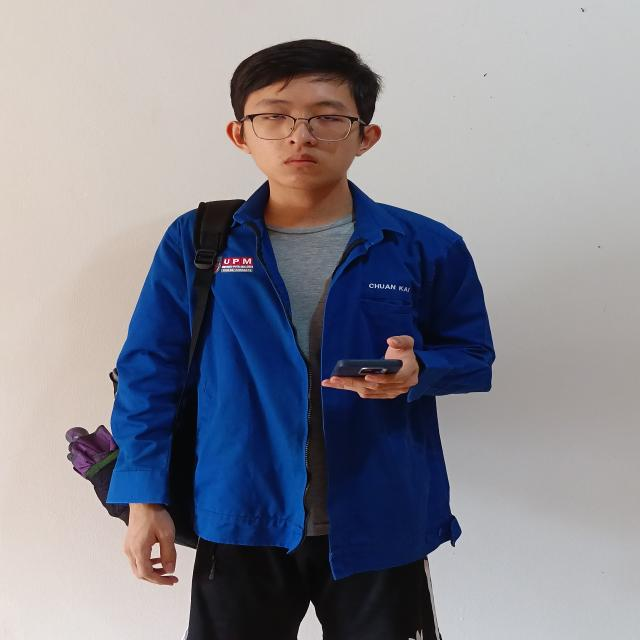person_with_labcoat: (68, 40, 494, 640)
